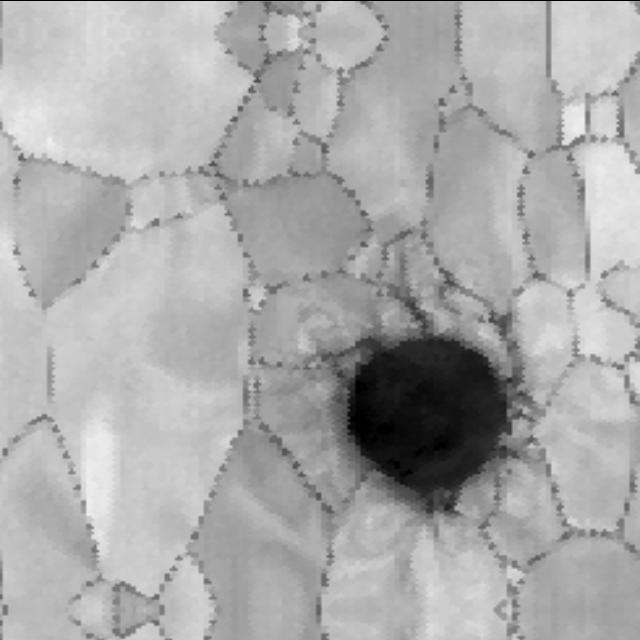good_void: (334, 288, 527, 508), (237, 277, 254, 302)
